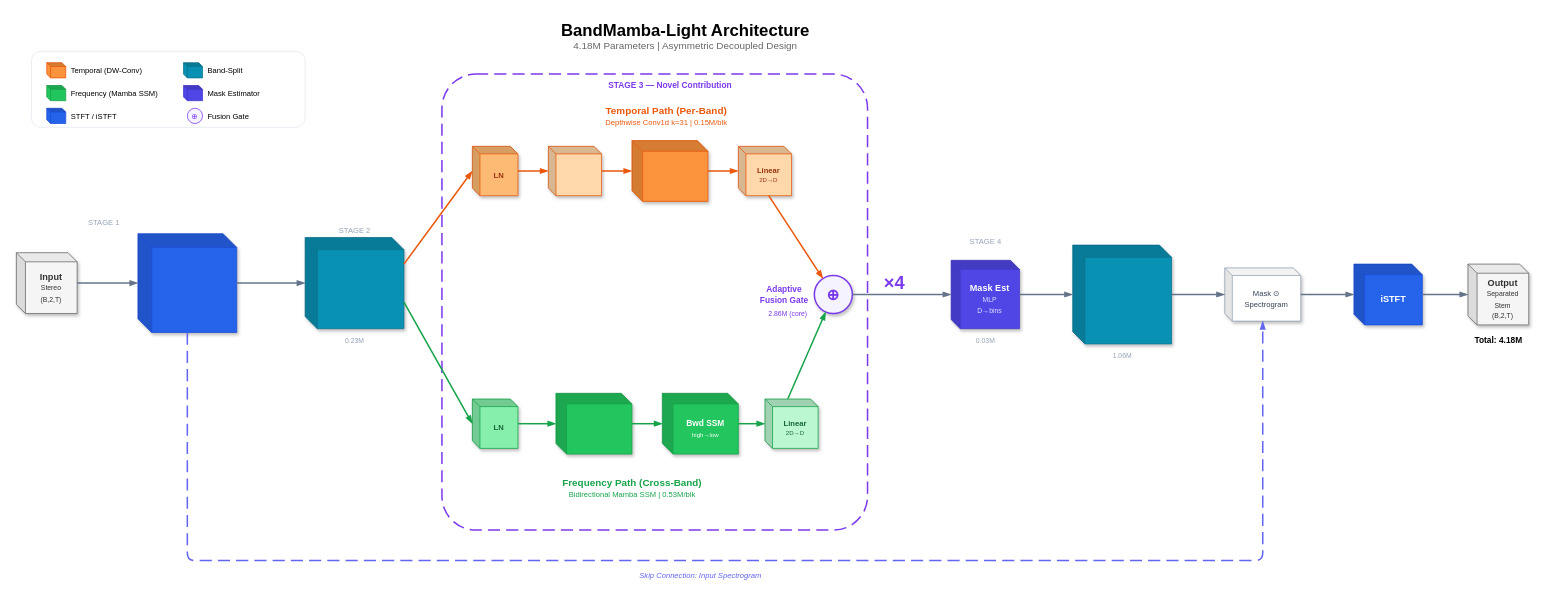
Some shapes in this 1550 by 600 pixel diagram are drawn without their labels. The centre of each missing label's shape, as x and y in pixels:
"Band-Split Decoder Reassemble tanh mask" belongs at pixel 1122 295.
"Band-Split Encoder 60 mel bands sparse compress (B,60,T,128)" belongs at pixel 354 284.
"DWConv1d k=31" belongs at pixel 670 172.
"Fwd SSM low→high" belongs at pixel 594 424.
"Linear D→2D" belongs at pixel 575 171.
"STFT n_fft=4096 (B,2,F,T)" belongs at pixel 187 284.
